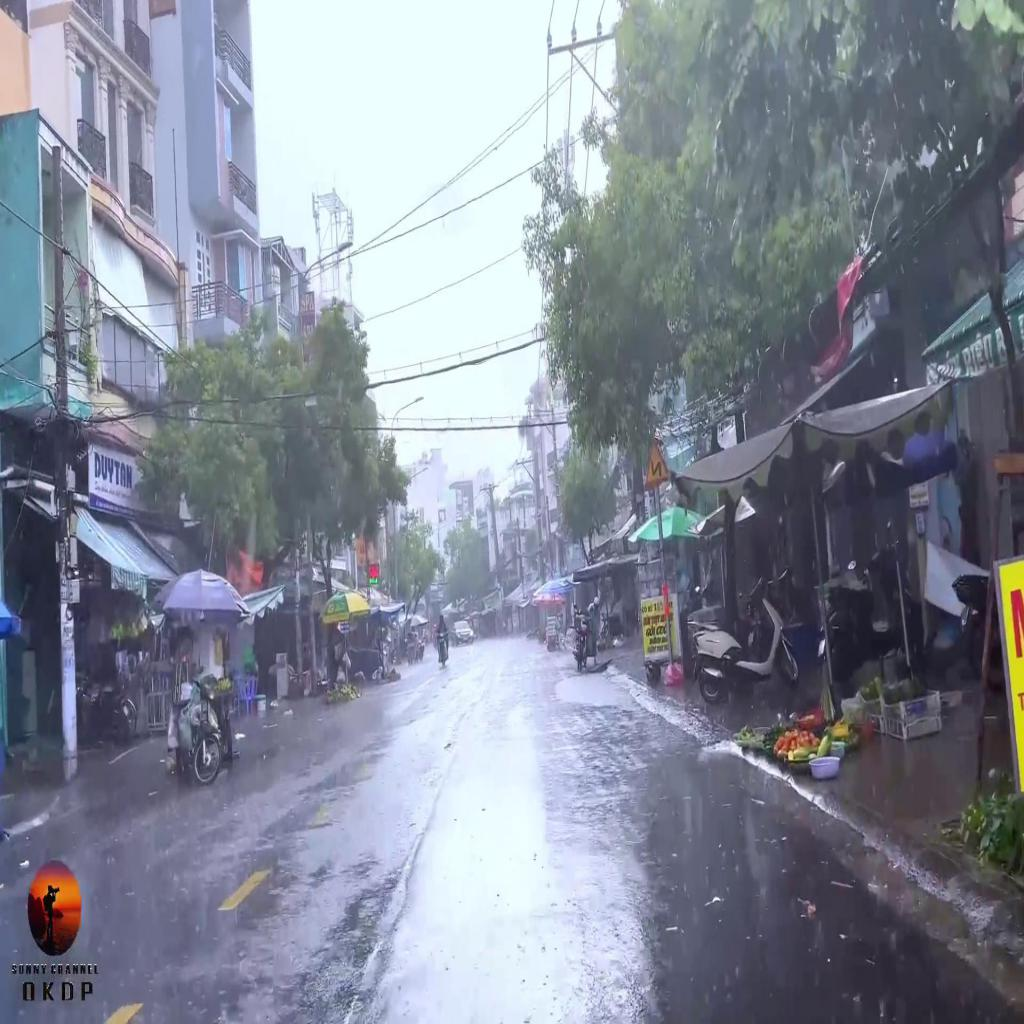cho_ngoat_nguy_hiem_lien_tiep: (644, 433, 670, 492)
